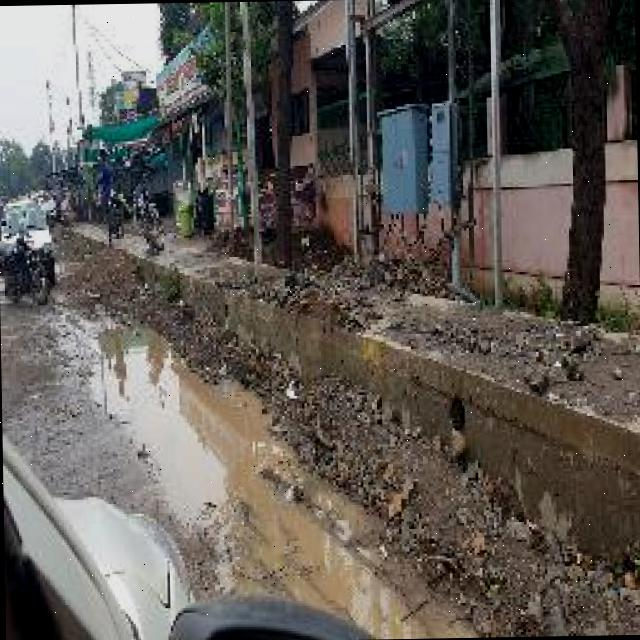stagnation: (71, 314, 510, 637)
